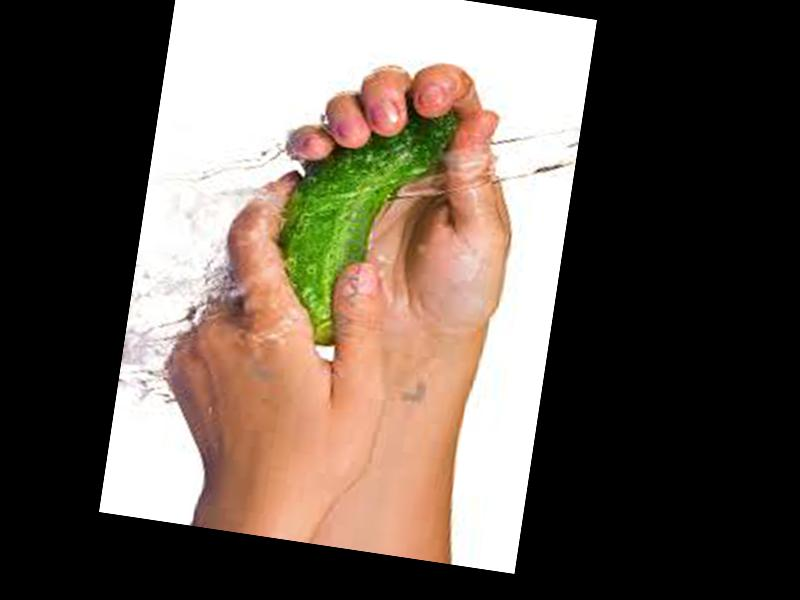Cucumber: (261, 87, 460, 362)
